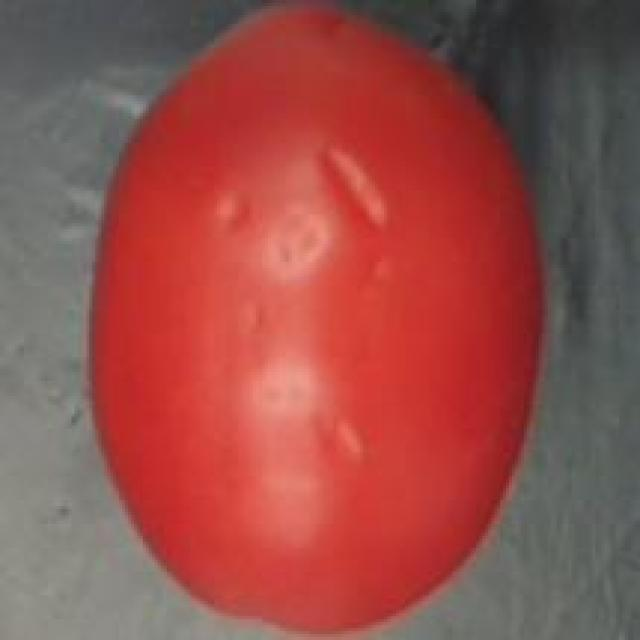ripe tomato: (78, 3, 560, 640)
